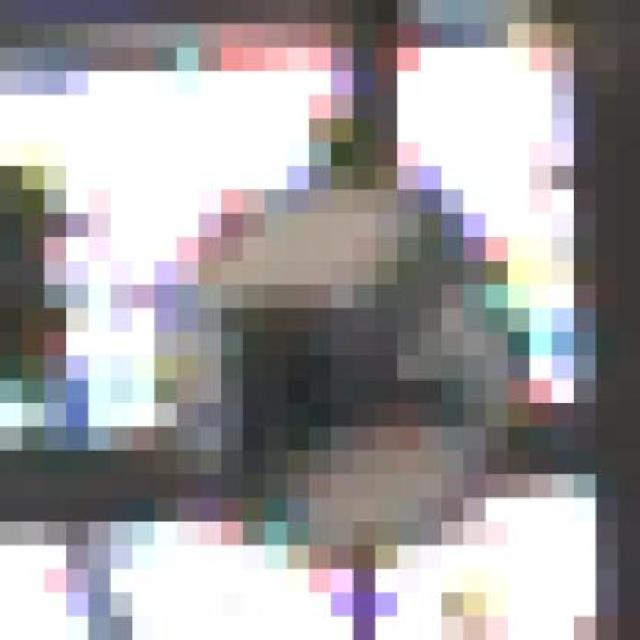Overtaking by trucks is prohibited: (89, 142, 552, 593)
